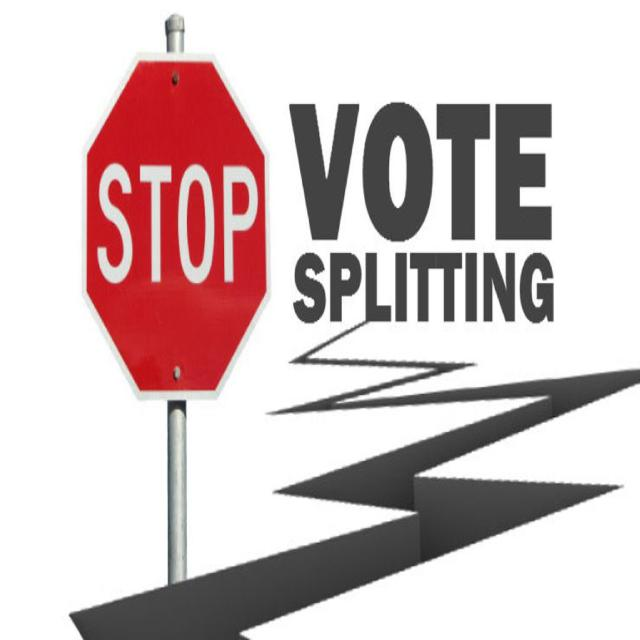Stop-sign: (80, 53, 271, 403)
